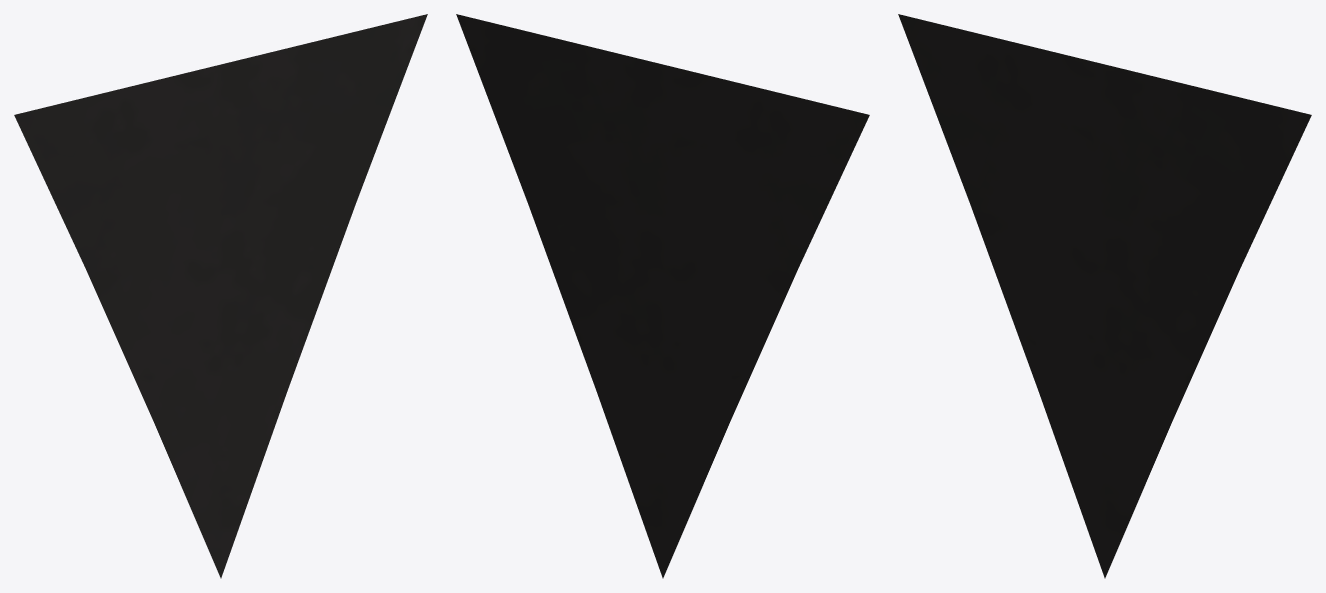
The model's file is Flag_Black.glb.
3 views of the same model, side by side, from view 1: azimuth 30°, elevation 25°; view 2: azimuth 150°, elevation 25°; view 3: azimuth 330°, elevation 25° (orthographic).
Visible parts, largest first — view 1: Flag_Black.001; view 2: Flag_Black.001; view 3: Flag_Black.001.
Boxes of the visible parts, x1,y1,x2,y2 form: Flag_Black.001: (14,14,427,578); Flag_Black.001: (456,14,869,578); Flag_Black.001: (898,14,1311,578).
Bounding box in the file's own units: 0.3367 × 0.4 × 1.75e-08.
Materials: 1 (1 with a texture image).
